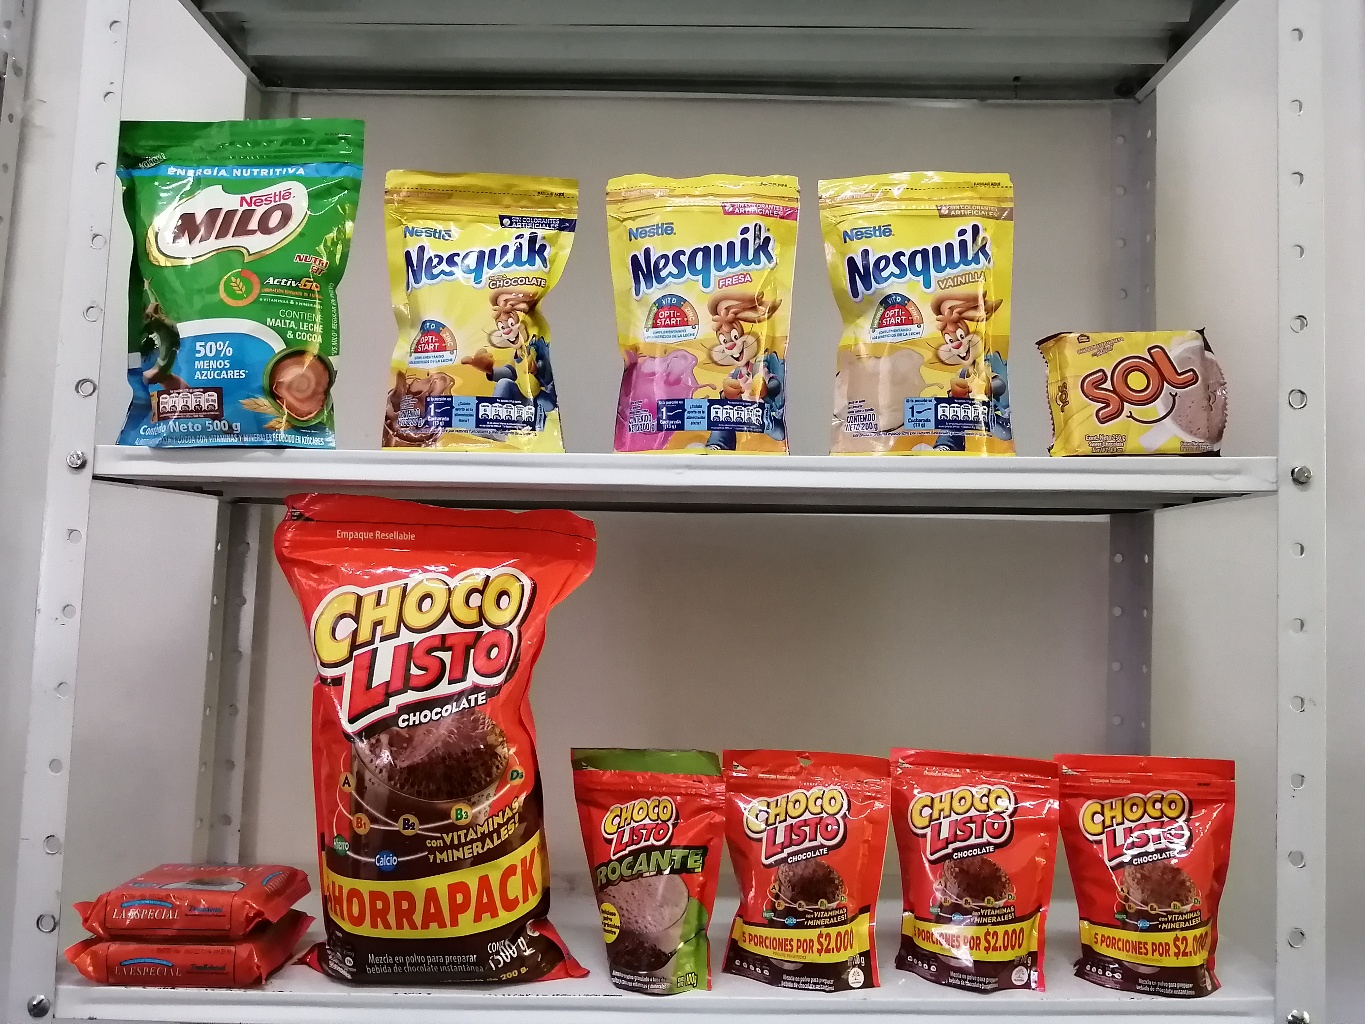COL0170102DYP10000: (567, 744, 721, 996)
COL0170103DYP1,500: (285, 490, 593, 991)
COL0170205DYP50000: (115, 117, 364, 447)
COL0170303DYP20000: (383, 162, 586, 456)
COL0170305DYP20000: (598, 174, 801, 455)
COL0170306DYP20000: (817, 177, 1022, 454)
